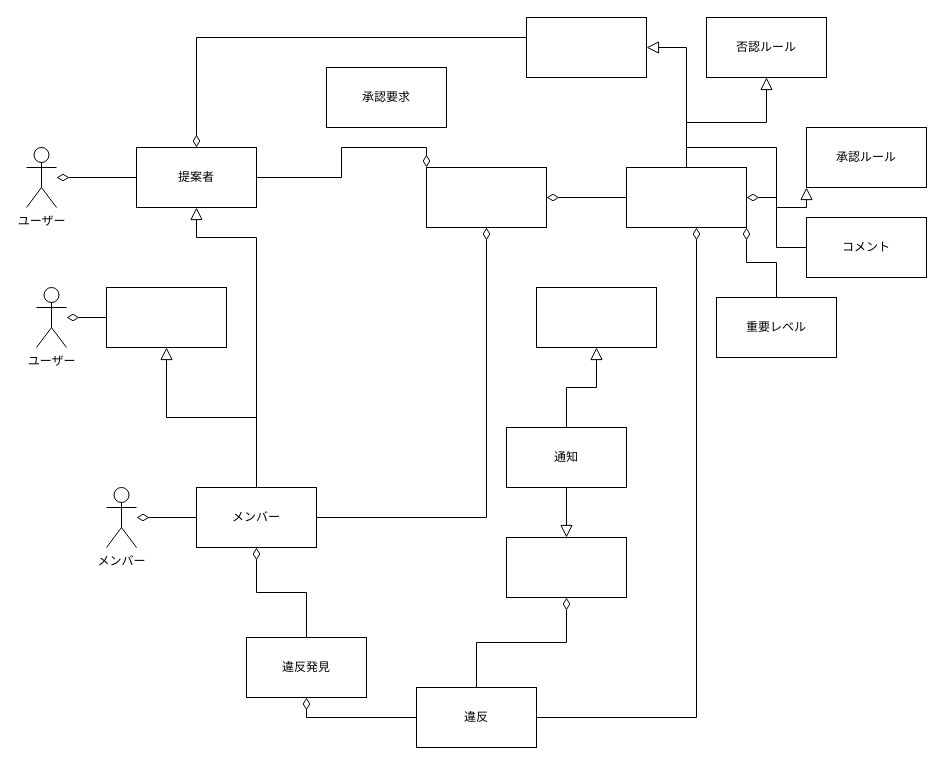
The diagram is 944 pixels wide and 765 high, and some of its shapes have lost their labels. Each missing label, with the centre of its shape:
グループ: point 486,197
ルール: point 686,197
承認者: point 166,317
承認通知: point 596,317
提案ルール: point 586,47
違反通知: point 566,567
